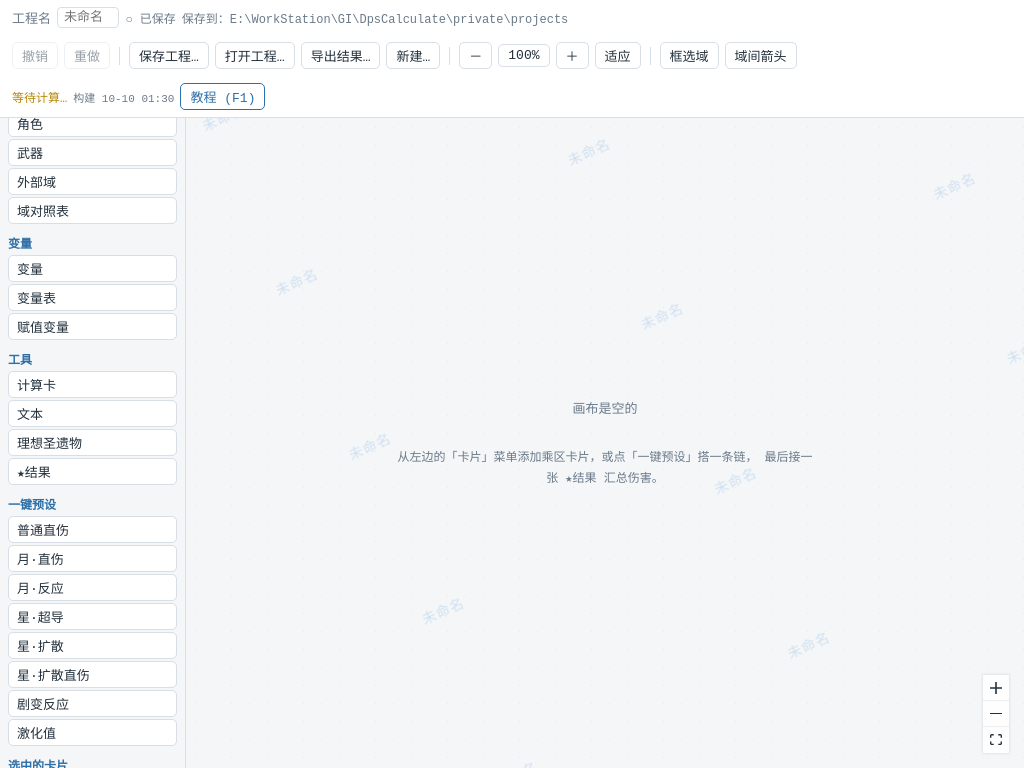
App 集成（假后端 + 真 schema） › 理想圣遗物卡片渲染静态参考表（来自 schema）
(page scrolled)
Expected: the element with test id "sidebar" is shown, [0,118,186,767]
Click the button "理想圣遗物".
click(92, 442)  # box [8,429,177,456]
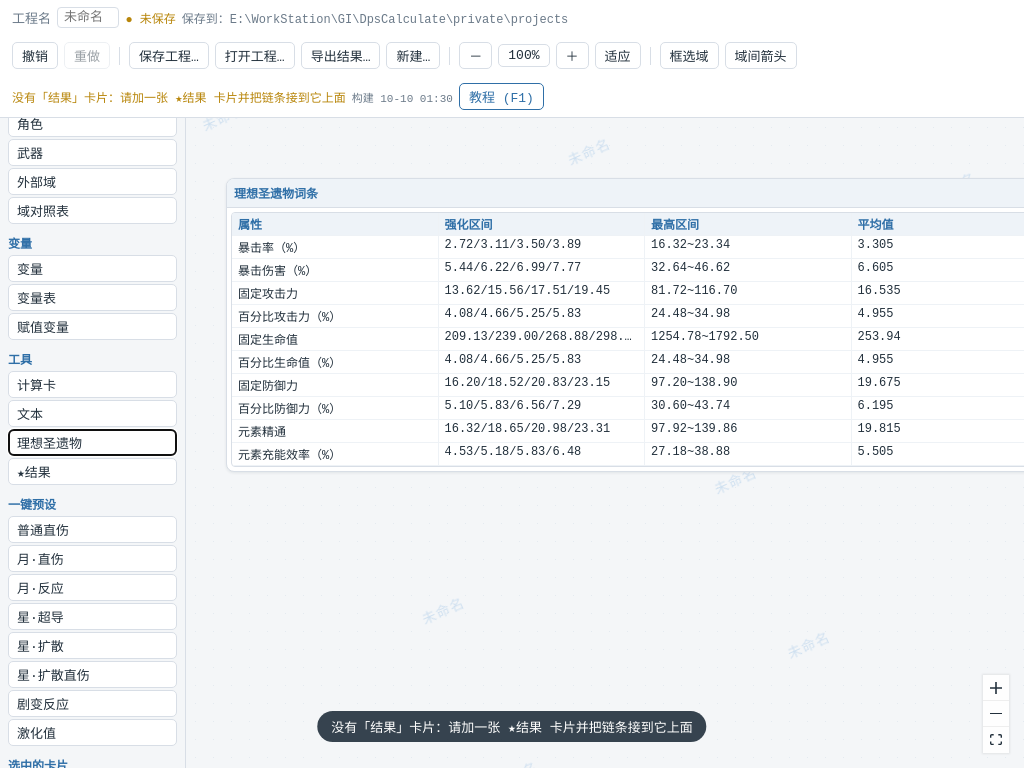
Result: the column heading "强化区间" is shown at [438,213,645,236]
Result: the text "暴击率（%）" is shown at [232,236,438,259]
